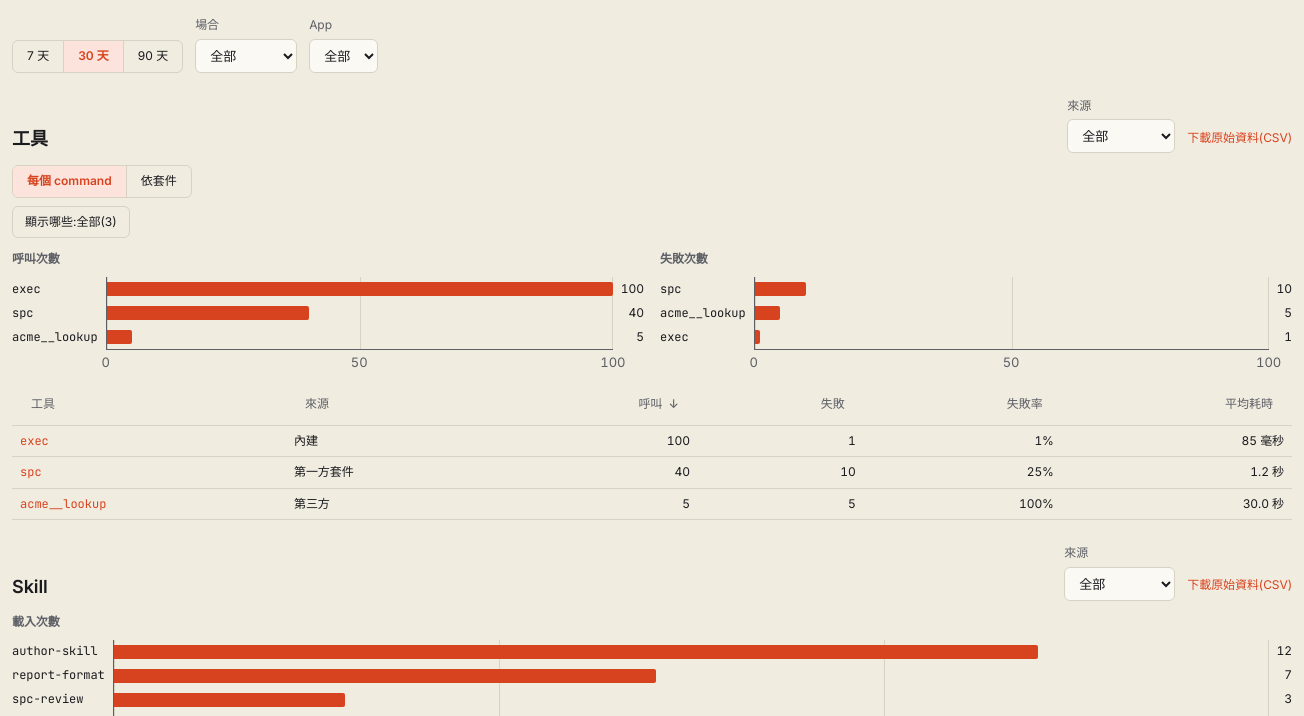
Test case: tools › breaks one tool down by person, by surface and App, and by item
This screenshot has width=1304, height=716.
Click the button "spc" at (31, 472), box top-left (20, 463), bottom-right (42, 482)
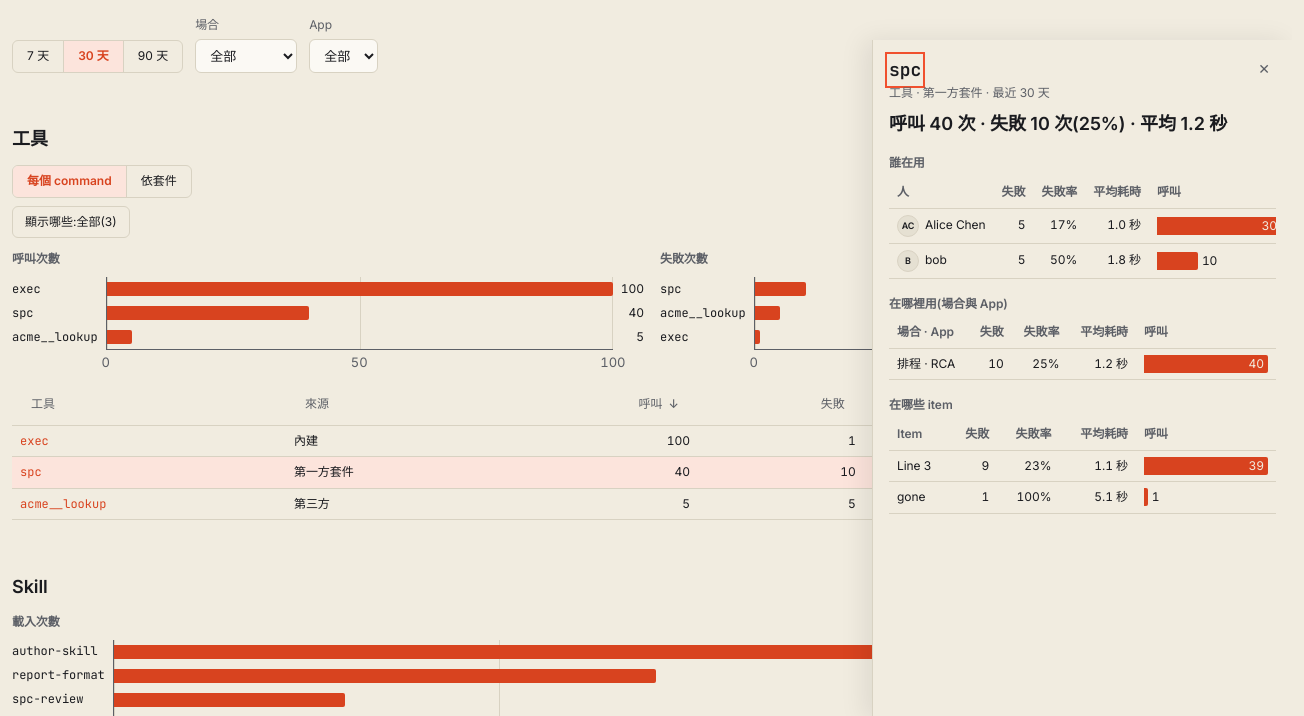
Expected: the text "Alice Chen" is shown, top-left (925, 216), bottom-right (986, 235)
Expected: the text "排程 · RCA" is shown, top-left (889, 348), bottom-right (969, 380)
Expected: the text "gone" is shown, top-left (889, 482), bottom-right (949, 513)
